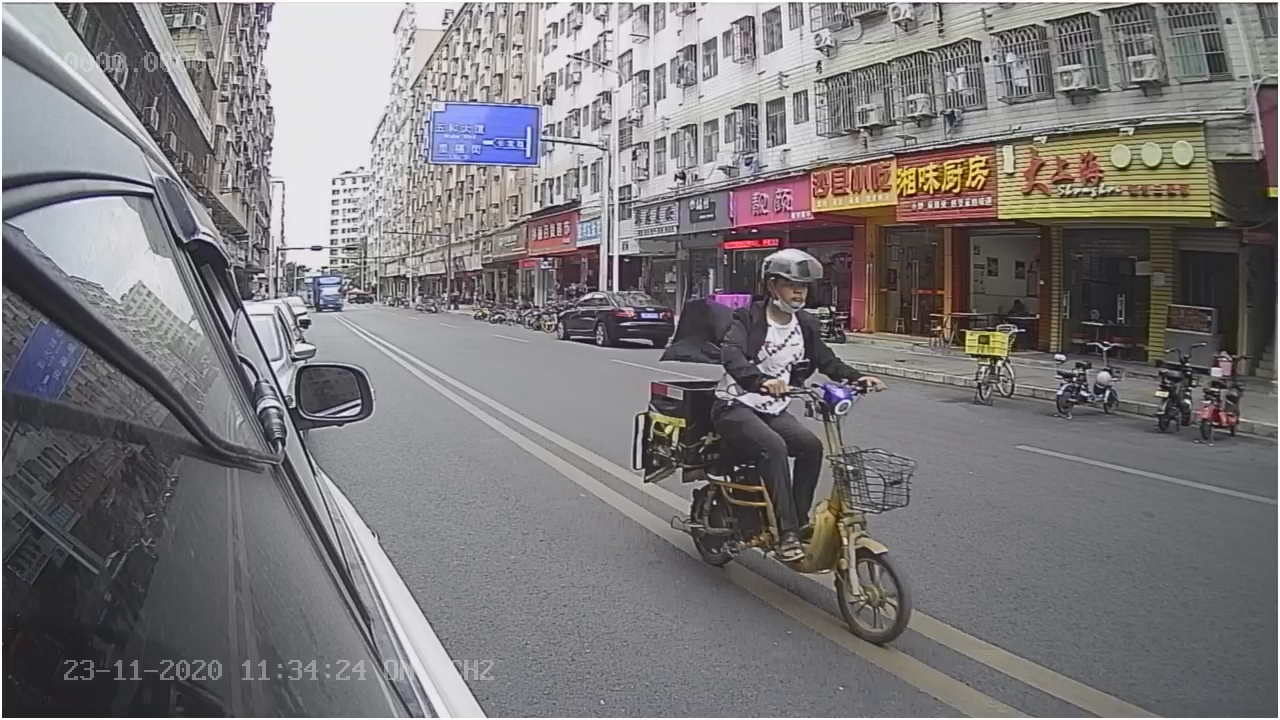person: (717, 249, 847, 393)
